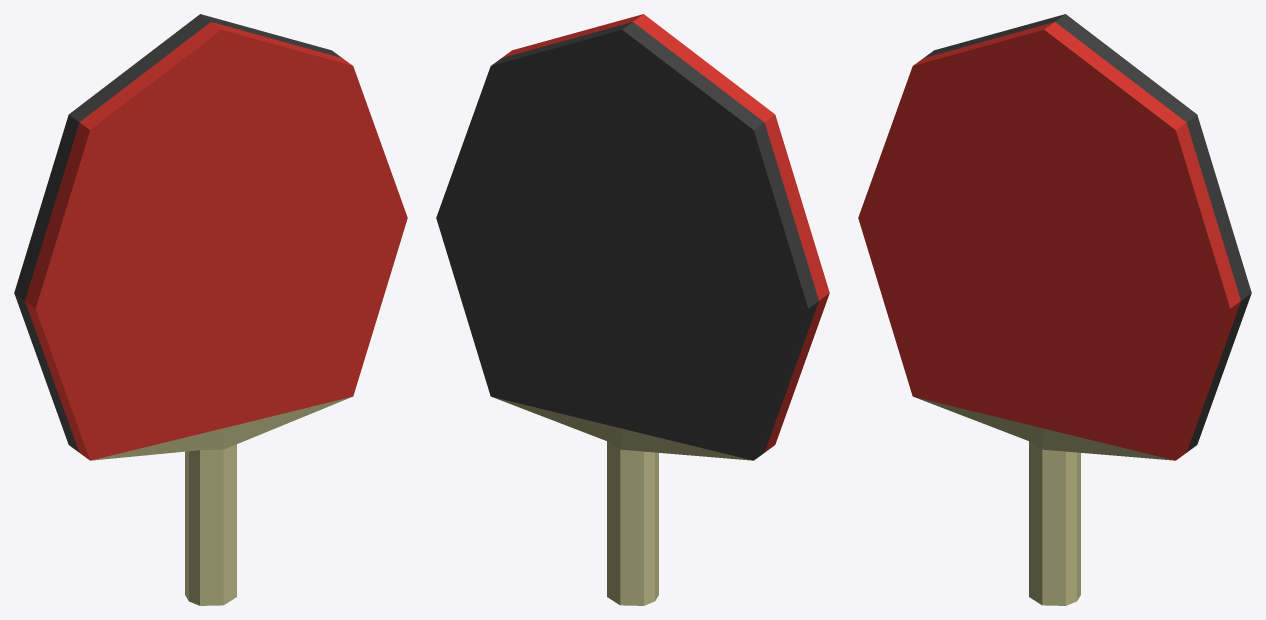
File: Ping Pong Paddle.fbx
3 renders of one model, left to right at view 1: azimuth 30°, elevation 25°; view 2: azimuth 150°, elevation 25°; view 3: azimuth 330°, elevation 25°, orthographic.
Parts seen in each view (by area): view 1: Ping Pong Paddle; view 2: Ping Pong Paddle; view 3: Ping Pong Paddle.
Part boxes in pixels (x1,y1,x2,y2): Ping Pong Paddle: [14, 14, 407, 605]; Ping Pong Paddle: [436, 14, 829, 605]; Ping Pong Paddle: [858, 14, 1251, 605].
Size of the model in its own units: 200 by 295 by 23.8.
